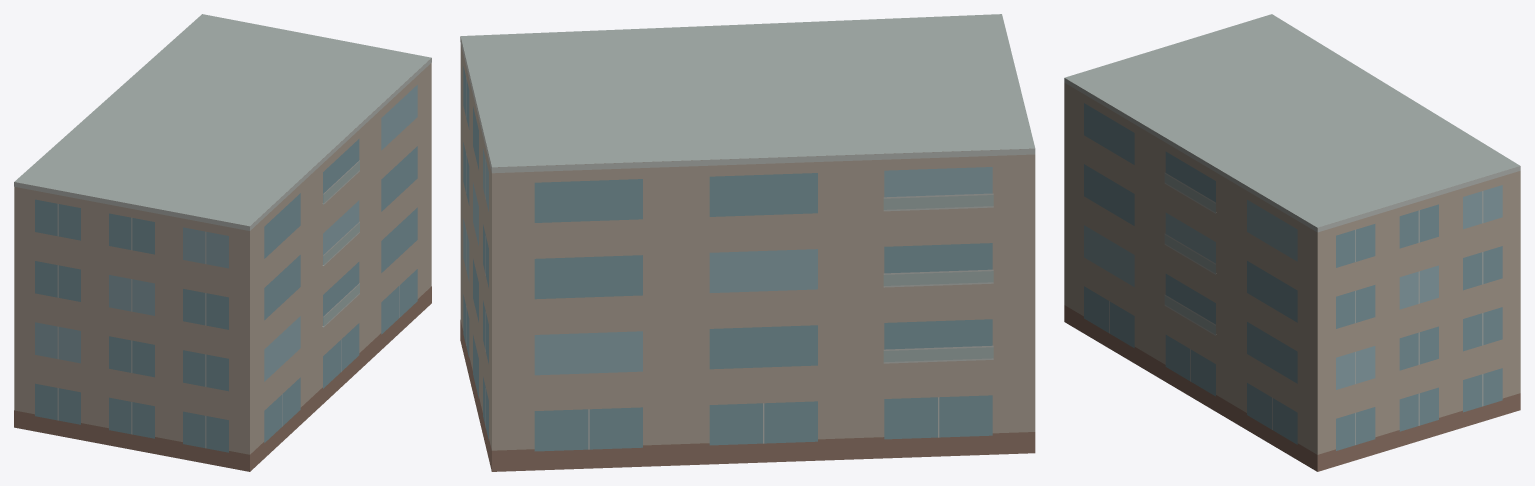
Rendered from survey-upis-32814820.glb.
The picture shows the model from 3 angles, left to right: view 1: azimuth 30°, elevation 25°; view 2: azimuth 150°, elevation 25°; view 3: azimuth 270°, elevation 25°; orthographic projection. The views are drawn at different scales.
Visible parts, largest first — view 1: survey-upis-32814820.tmp; view 2: survey-upis-32814820.tmp; view 3: survey-upis-32814820.tmp.
Part boxes in pixels (<box>): survey-upis-32814820.tmp: <box>14,14,431,471</box>; survey-upis-32814820.tmp: <box>460,14,1035,471</box>; survey-upis-32814820.tmp: <box>1064,14,1520,471</box>.
Bounding box in the file's own units: 23.48 × 12.5 × 21.18.
